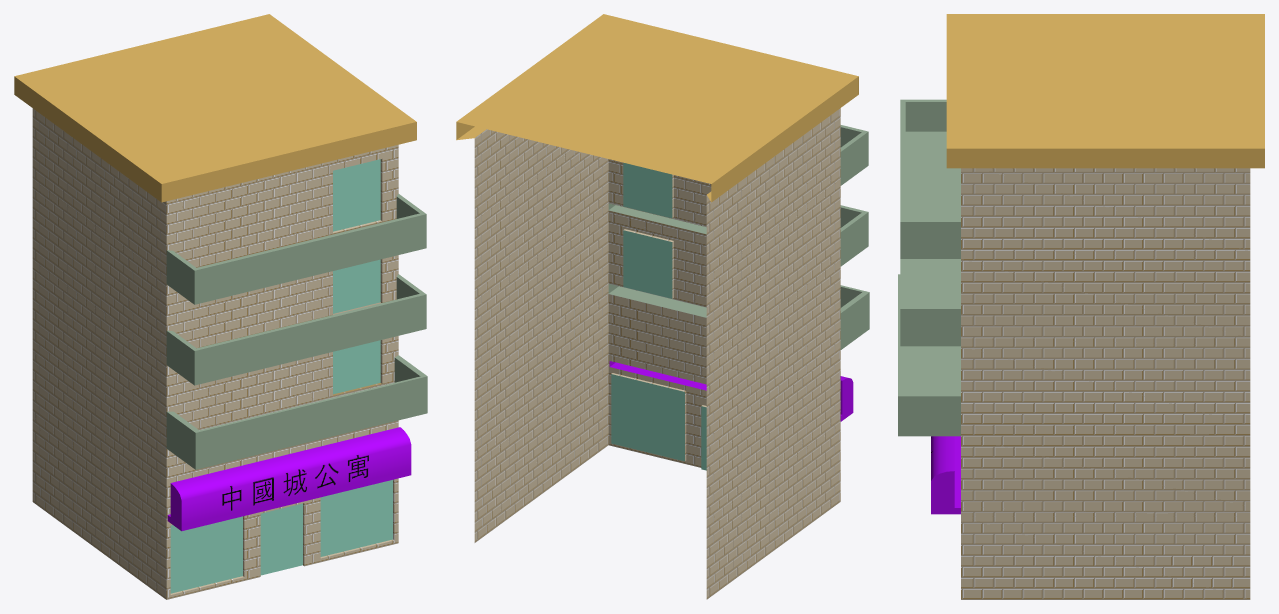
File: Building3.fbx
The picture shows the model from 3 angles, left to right: view 1: azimuth 30°, elevation 25°; view 2: azimuth 150°, elevation 25°; view 3: azimuth 270°, elevation 25°; orthographic projection. The views are drawn at different scales.
Parts seen in each view (by area): view 1: Building3; view 2: Building3; view 3: Building3.
Boxes of the visible parts, x1,y1,x2,y2 form: Building3: [14, 14, 427, 599]; Building3: [456, 14, 869, 599]; Building3: [898, 14, 1264, 599].
Bounding box in the file's own units: 1000 × 1586 × 1153.
Materials: 1 (1 with a texture image).
